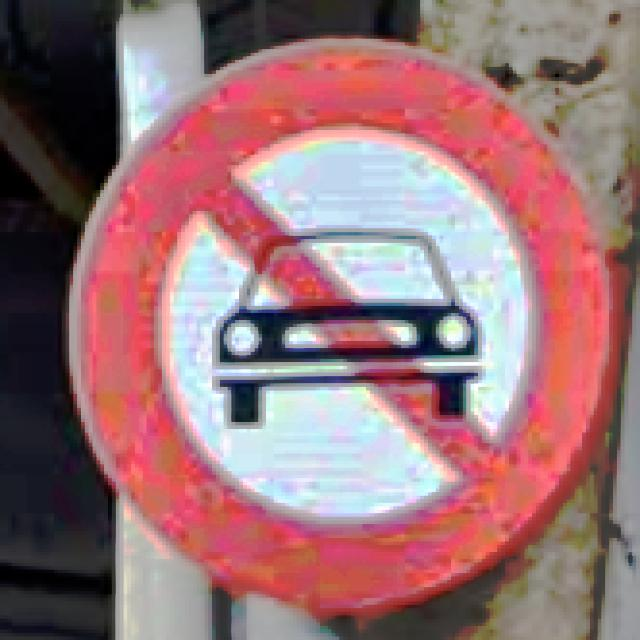nocar: (66, 39, 617, 615)
